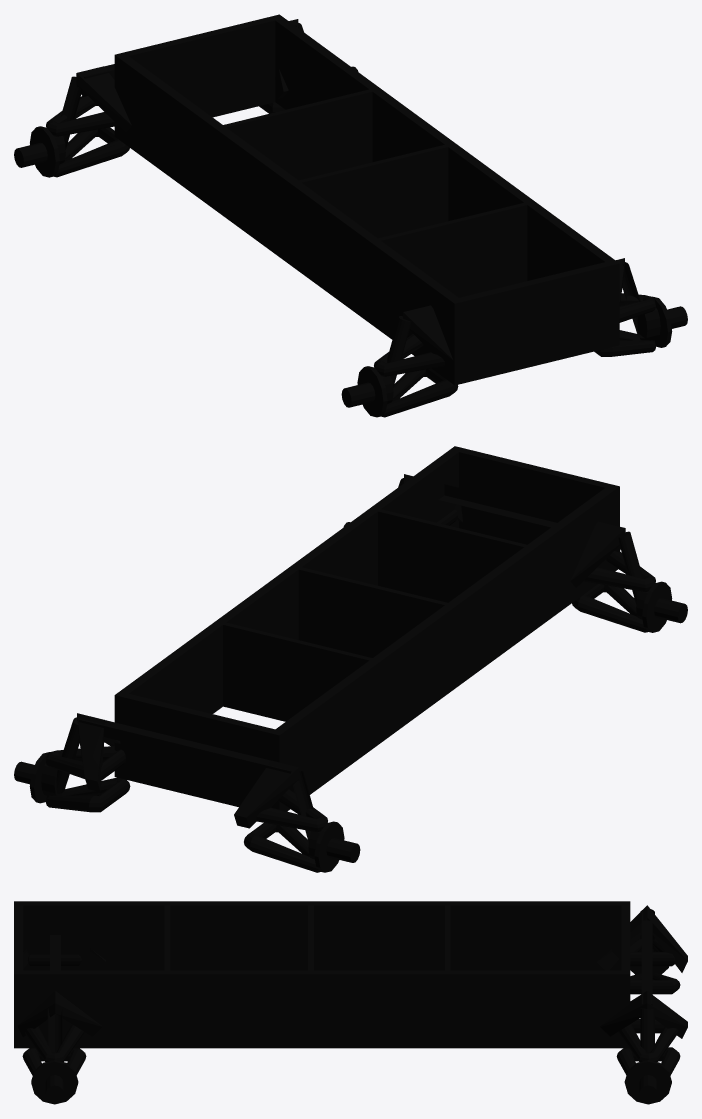
3 renders of one model, top to bottom at view 1: azimuth 30°, elevation 25°; view 2: azimuth 150°, elevation 25°; view 3: azimuth 270°, elevation 25°, orthographic. The views are drawn at different scales.
Parts seen in each view (by area): view 1: podvozek_Cylinder; view 2: podvozek_Cylinder; view 3: podvozek_Cylinder.
Part boxes in pixels (x1=…): podvozek_Cylinder: x1=14, y1=14, x2=687, y2=417; podvozek_Cylinder: x1=14, y1=446, x2=687, y2=872; podvozek_Cylinder: x1=14, y1=901, x2=687, y2=1104.
Size of the model in its own units: 1.2 by 0.3948 by 2.3.
Materials: 1 (1 with a texture image).
